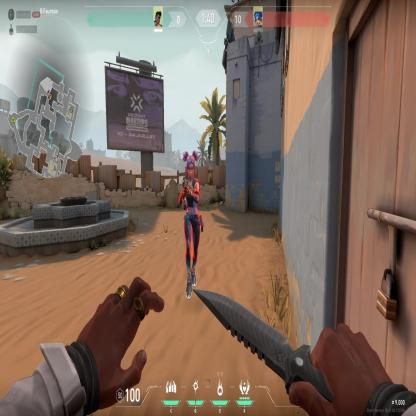enemy: (179, 148, 205, 300)
